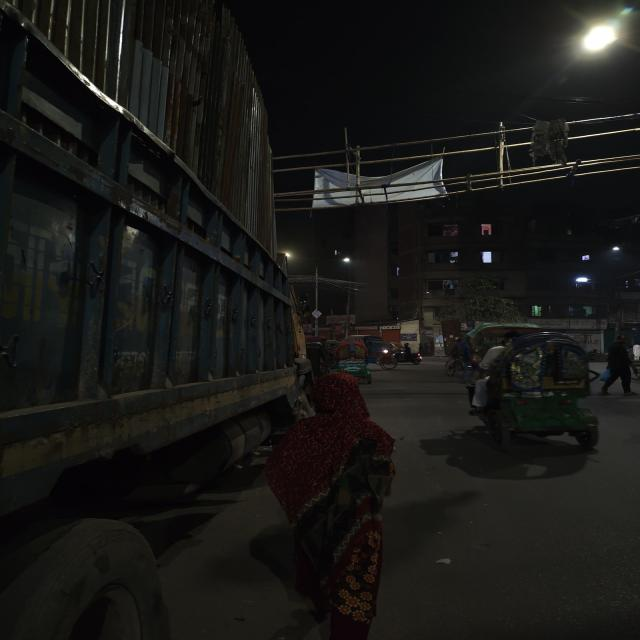motorcycle: (390, 344, 426, 365)
pedestrian: (258, 386, 407, 628)
rickshaw: (463, 328, 603, 457), (332, 339, 376, 388)
truck: (0, 0, 324, 640), (8, 12, 309, 439)
